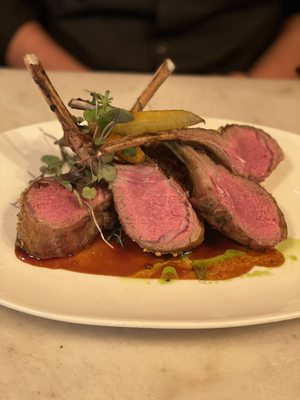soup: (6, 83, 290, 282)
